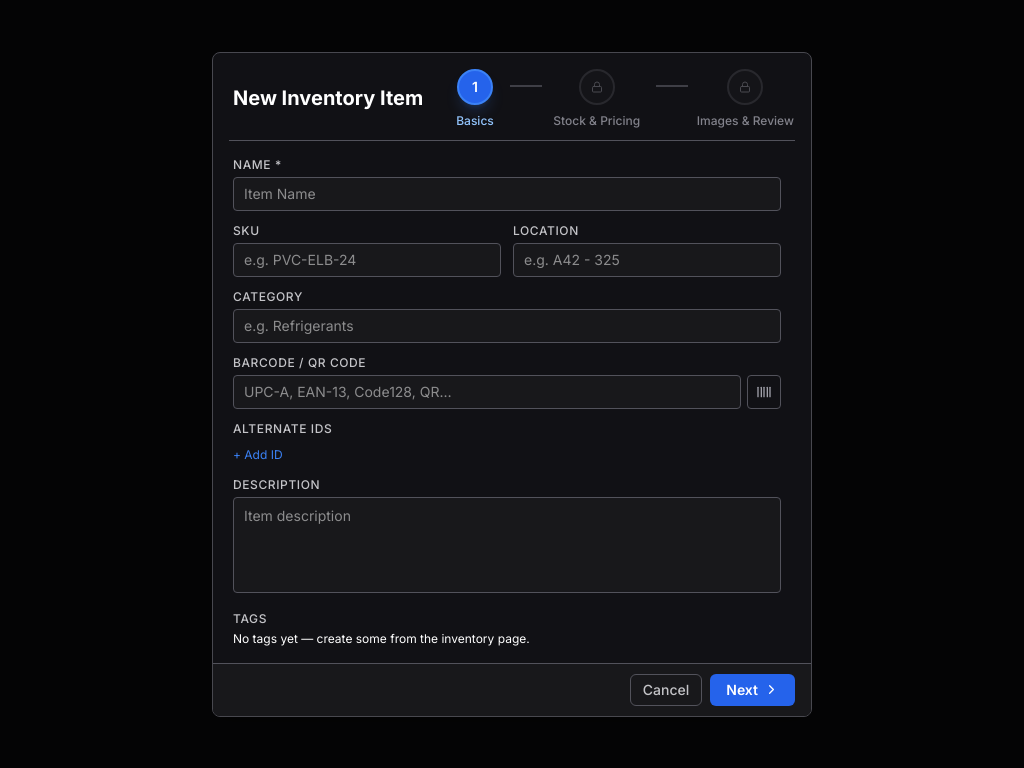
step gating › keeps an invalid step 1 on step 1 and says what's missing
Click the button "Next" at x=753, y=690, box [710,674,795,706]
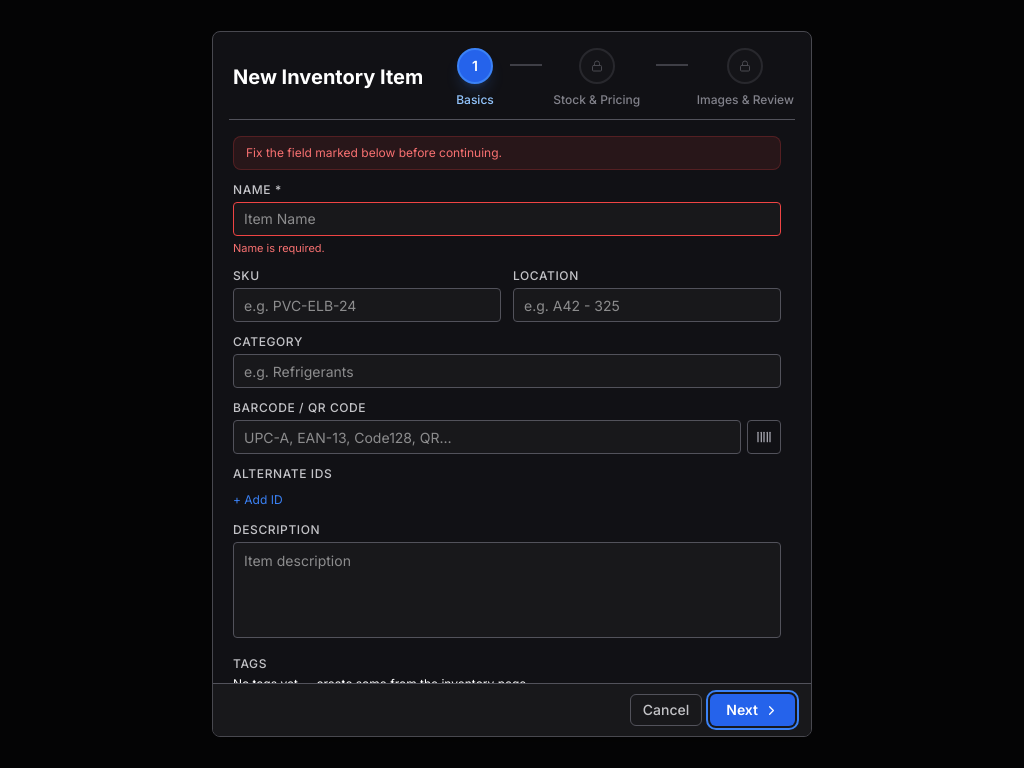
Check: the text "Name is required." is shown, box [233,241,325,255]
